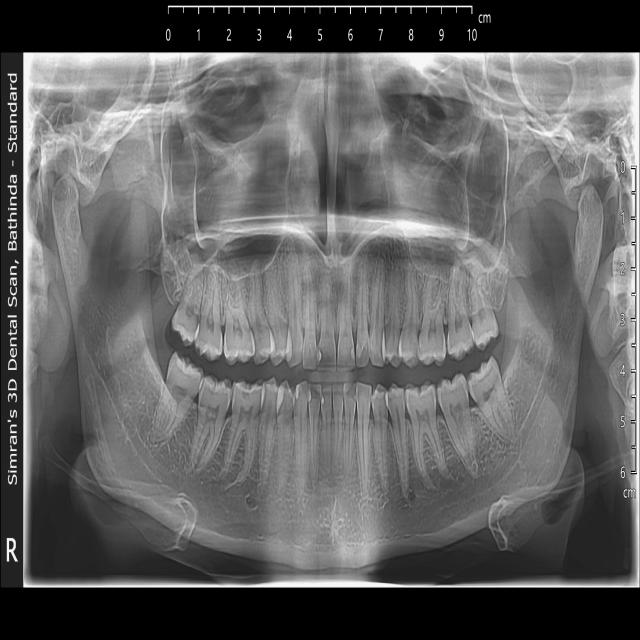Caries: (242, 388, 252, 401)
Filling: (316, 346, 322, 367)
Mandibular Canal: (85, 327, 248, 514), (412, 314, 568, 509)
maxillary sinus: (162, 99, 291, 278), (384, 117, 508, 283)
